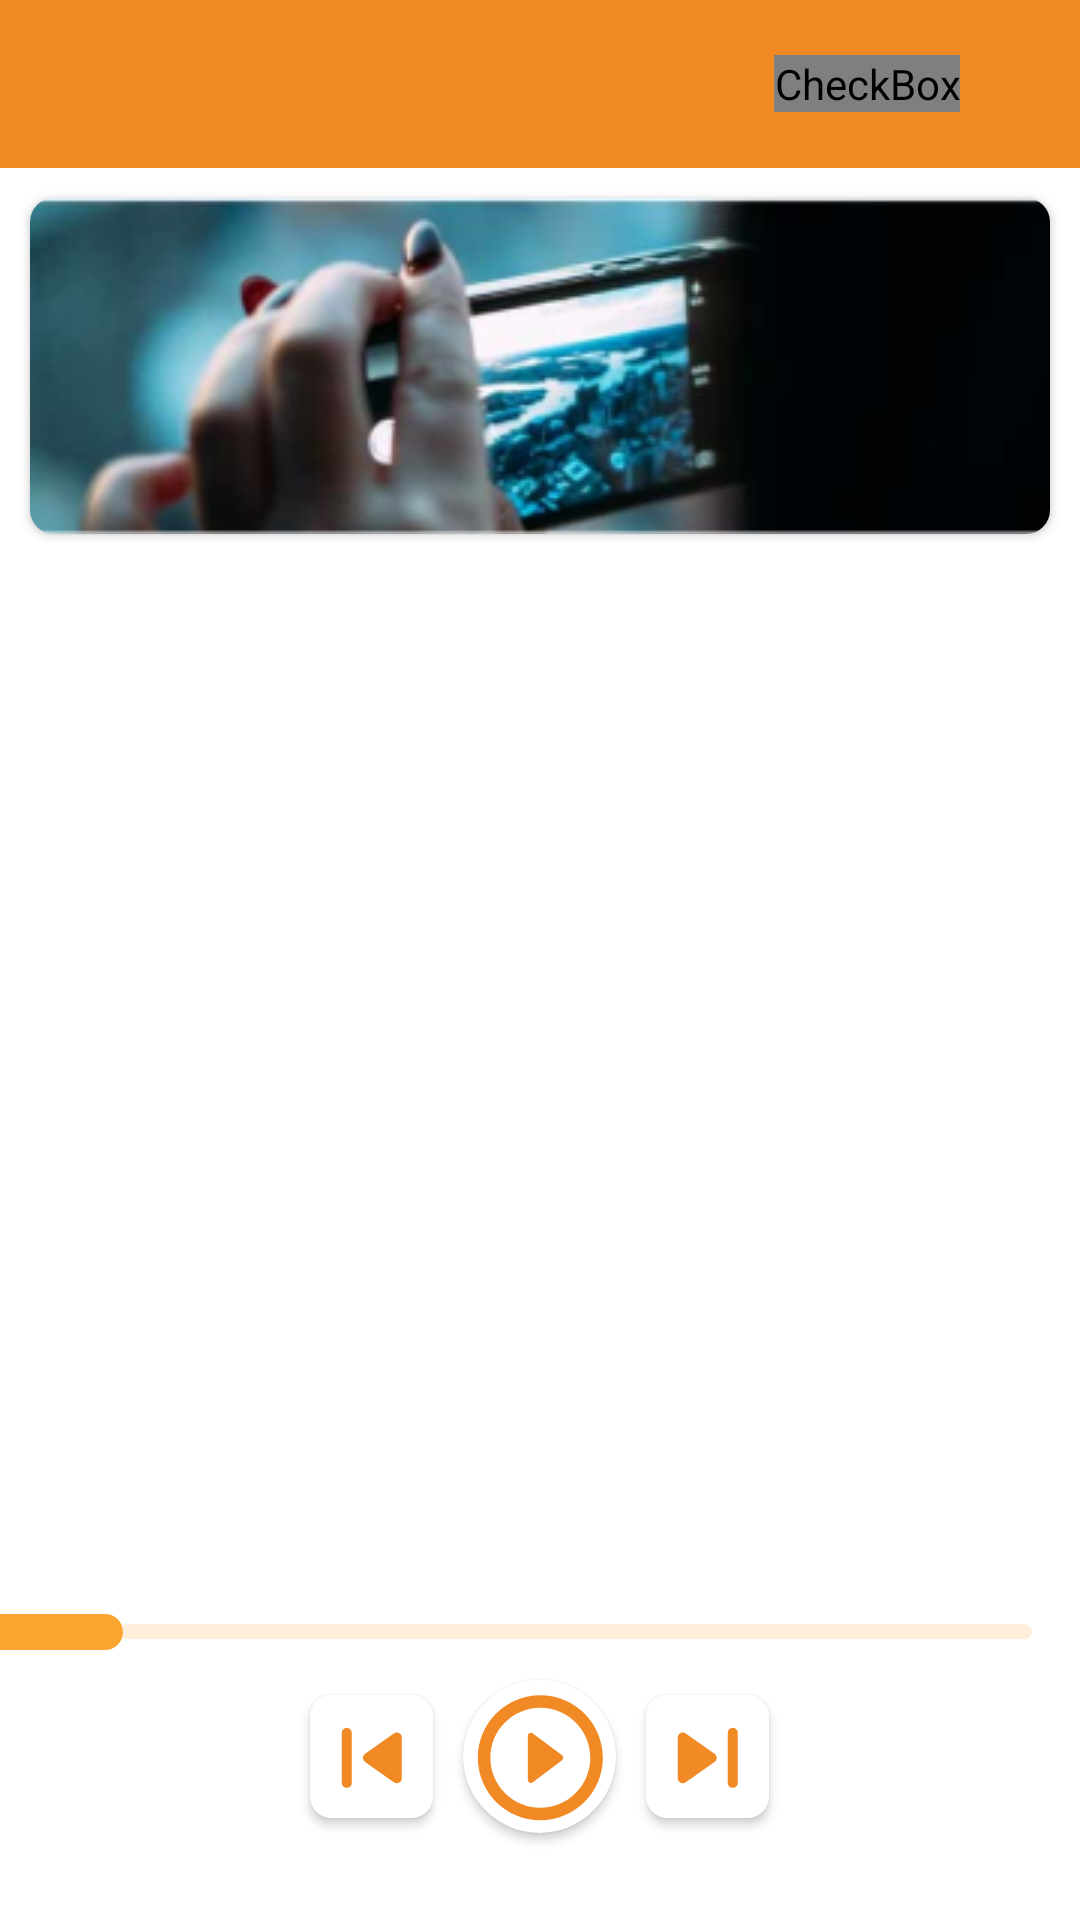

Where icons sit on this 1080w x 1920h app screen, as rect(x1, y1, x2, y2):
next: rect(646, 1728, 738, 1803)
play circle: rect(463, 1695, 616, 1821)
previous: rect(341, 1728, 433, 1803)
